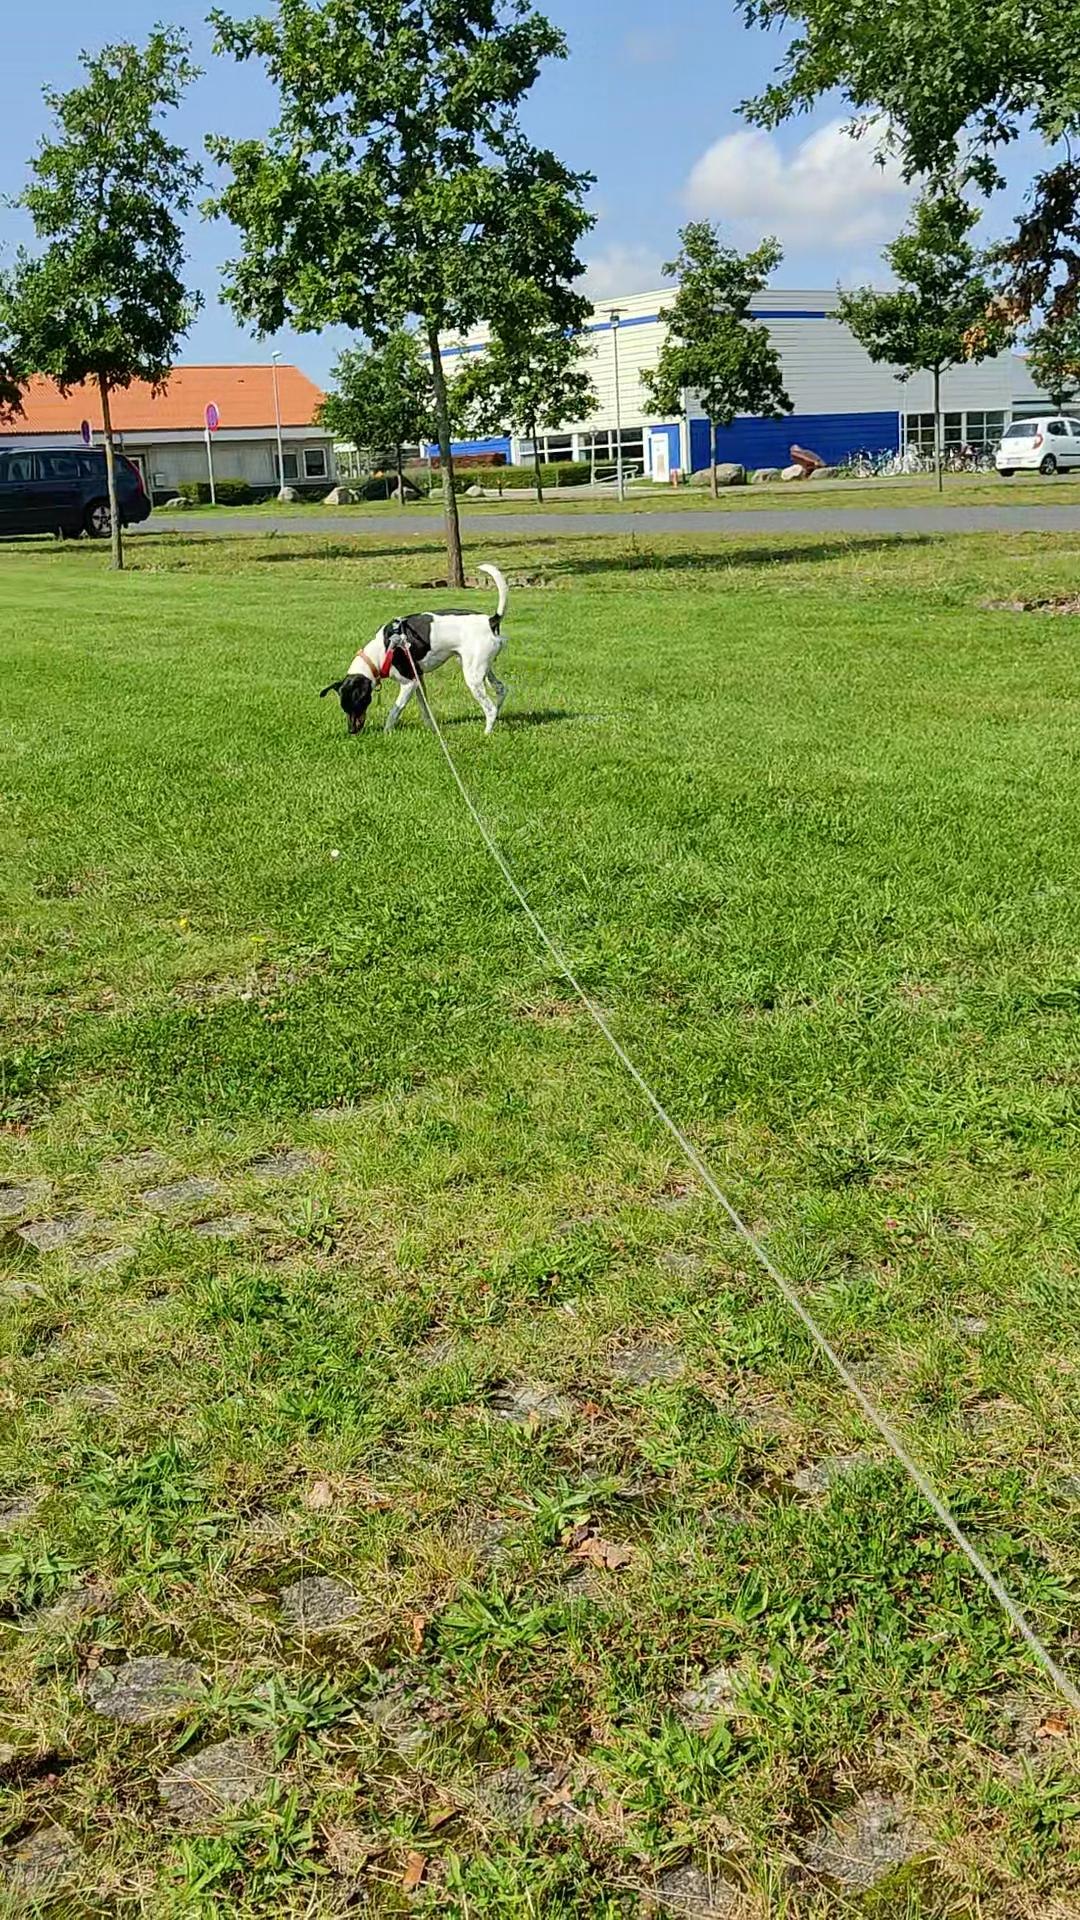Dog: (314, 556, 529, 738)
